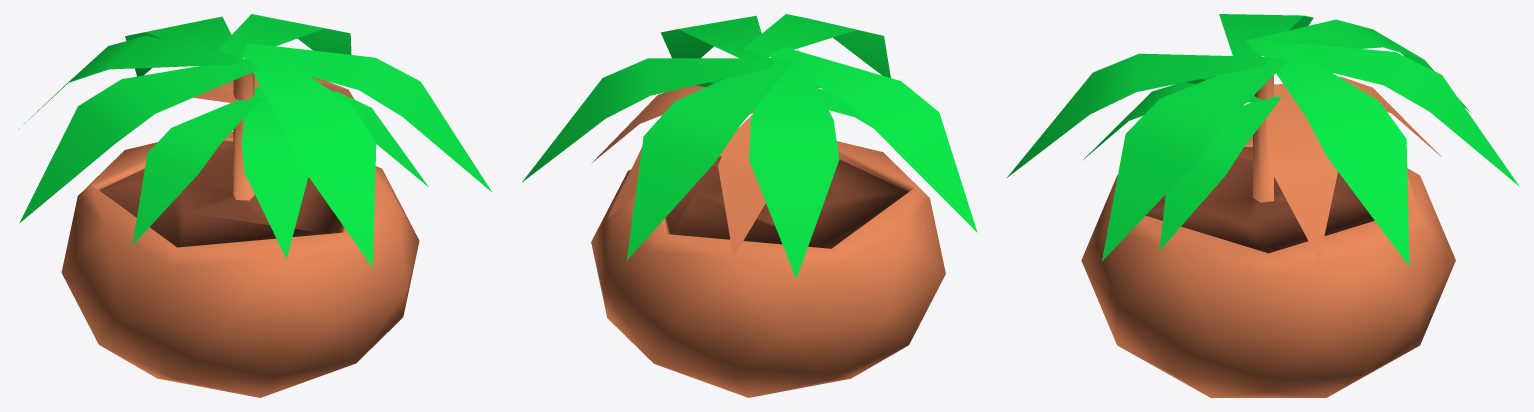
The model's file is Flower2.fbx.
3 renders of one model, left to right at view 1: azimuth 30°, elevation 25°; view 2: azimuth 150°, elevation 25°; view 3: azimuth 270°, elevation 25°, orthographic. The views are drawn at different scales.
Visible parts, largest first — view 1: GardenFlower; view 2: GardenFlower; view 3: GardenFlower.
Boxes of the visible parts, x1,y1,x2,y2 form: GardenFlower: (18,14,491,397); GardenFlower: (522,14,977,397); GardenFlower: (1007,14,1519,397).
Size of the model in its own units: 48.81 by 36.84 by 53.48.
